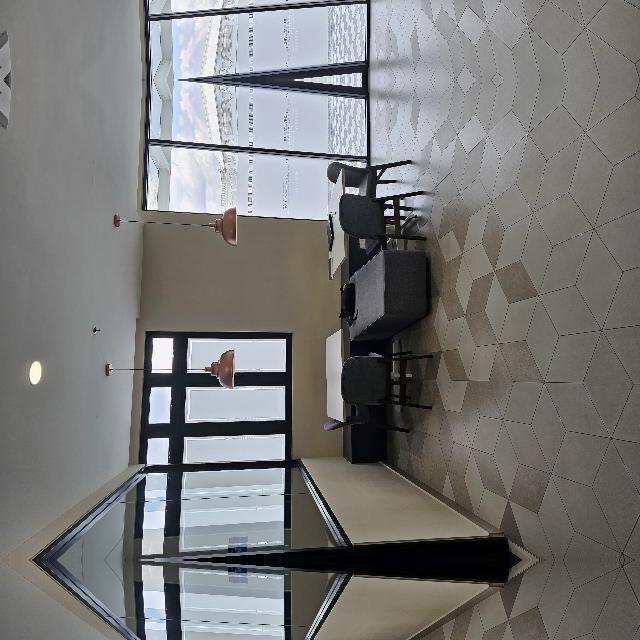door: (402, 220, 480, 456)
obstacle: (120, 400, 210, 514), (218, 424, 312, 510), (313, 421, 371, 507), (120, 605, 209, 640), (218, 610, 312, 640), (313, 613, 371, 640)
